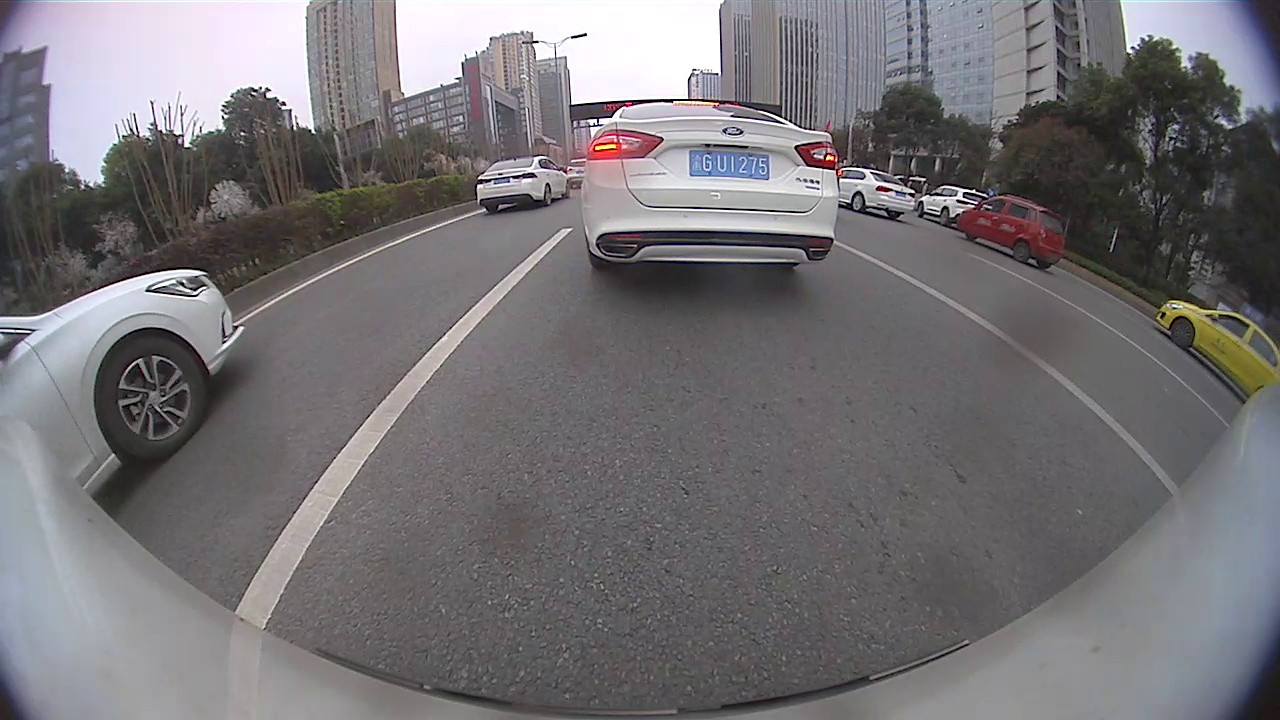car: (1, 268, 246, 496), (580, 100, 839, 270), (1152, 297, 1279, 398), (956, 194, 1065, 270), (475, 155, 571, 214), (837, 167, 916, 220), (914, 185, 990, 227)
front: (91, 330, 215, 462), (1170, 313, 1200, 353)
rear: (1016, 238, 1035, 261), (851, 188, 867, 211), (543, 183, 557, 206), (939, 204, 951, 229)
